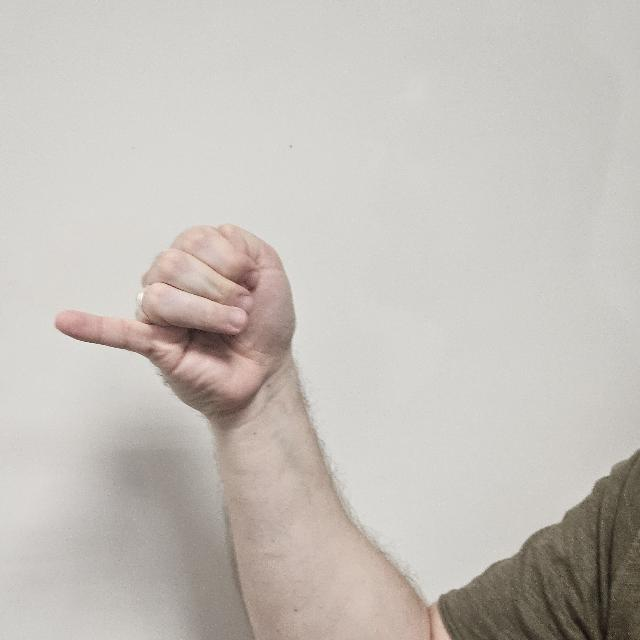Esquerda: (47, 178, 305, 420)
